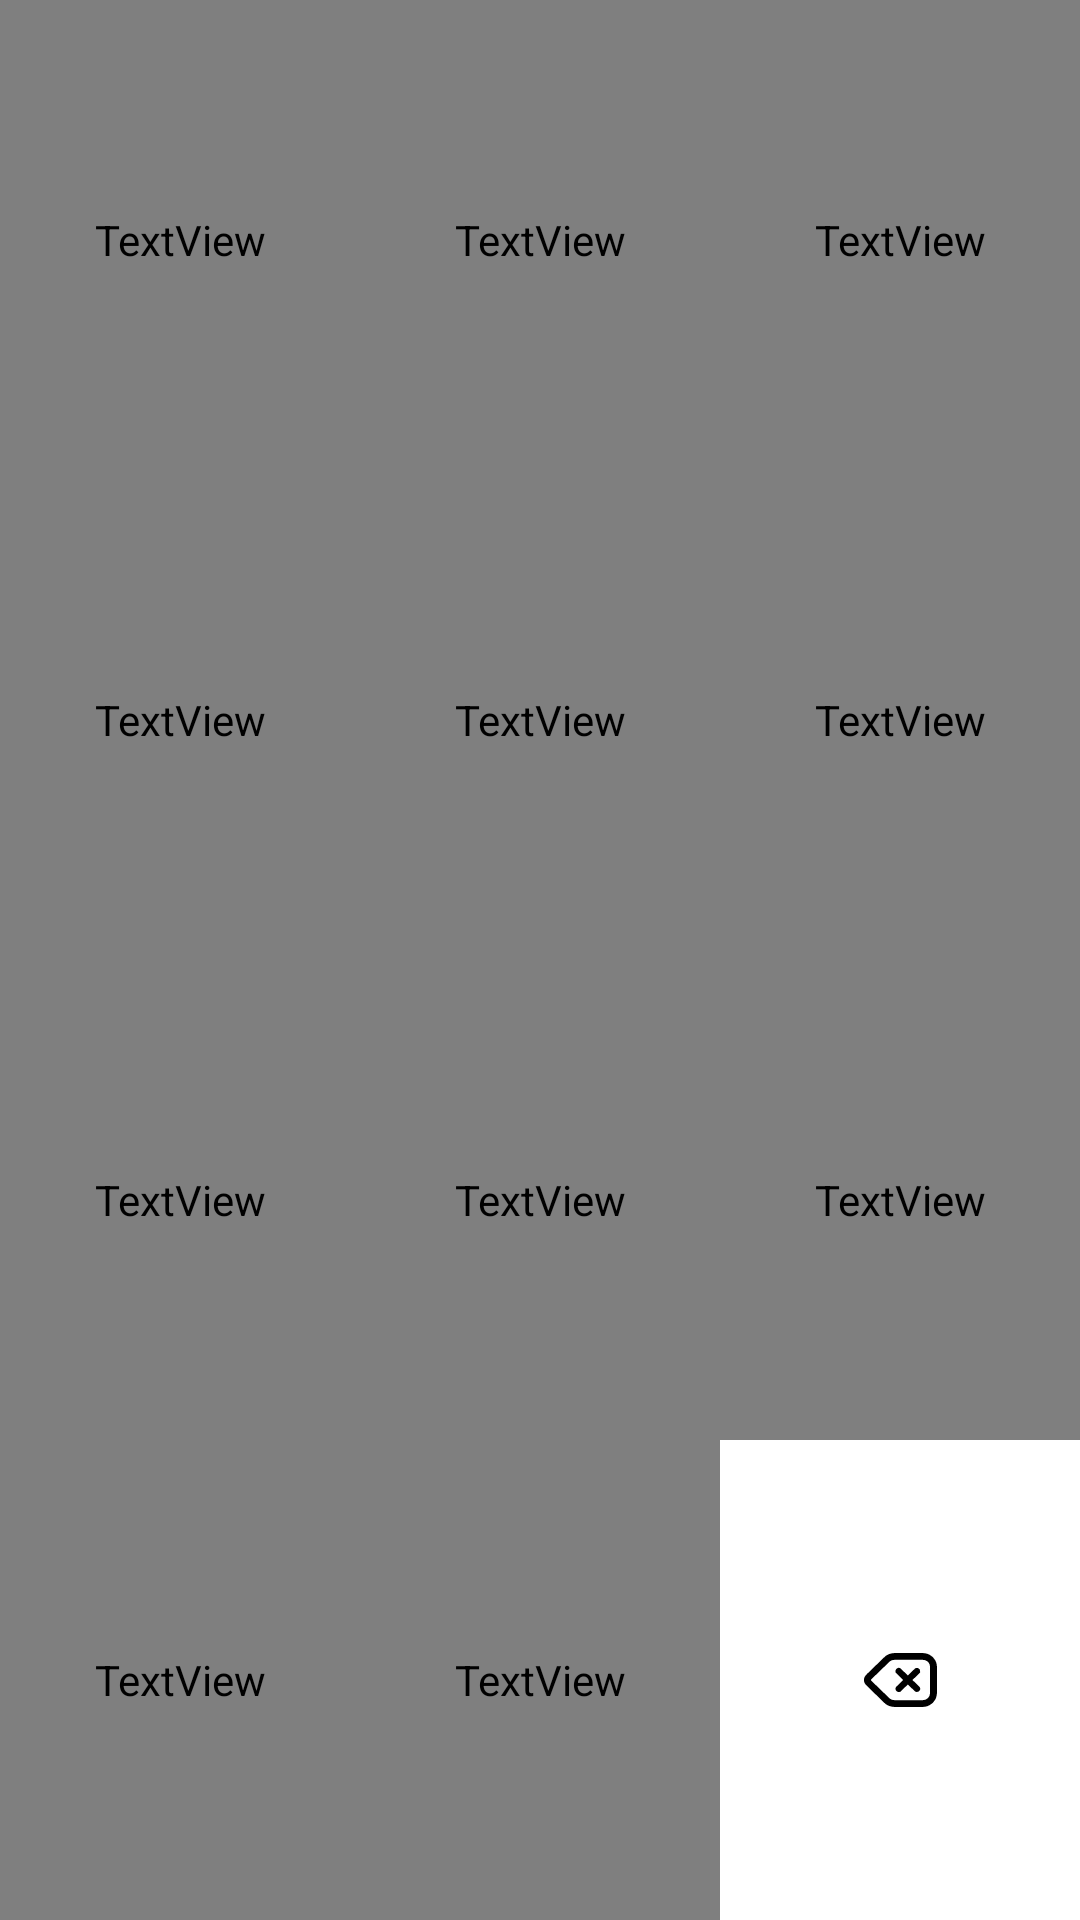

Screen size 1080x1920. Icon name, then its center in pixels as (x=x, y=y):
clear: (x=900, y=1680)
